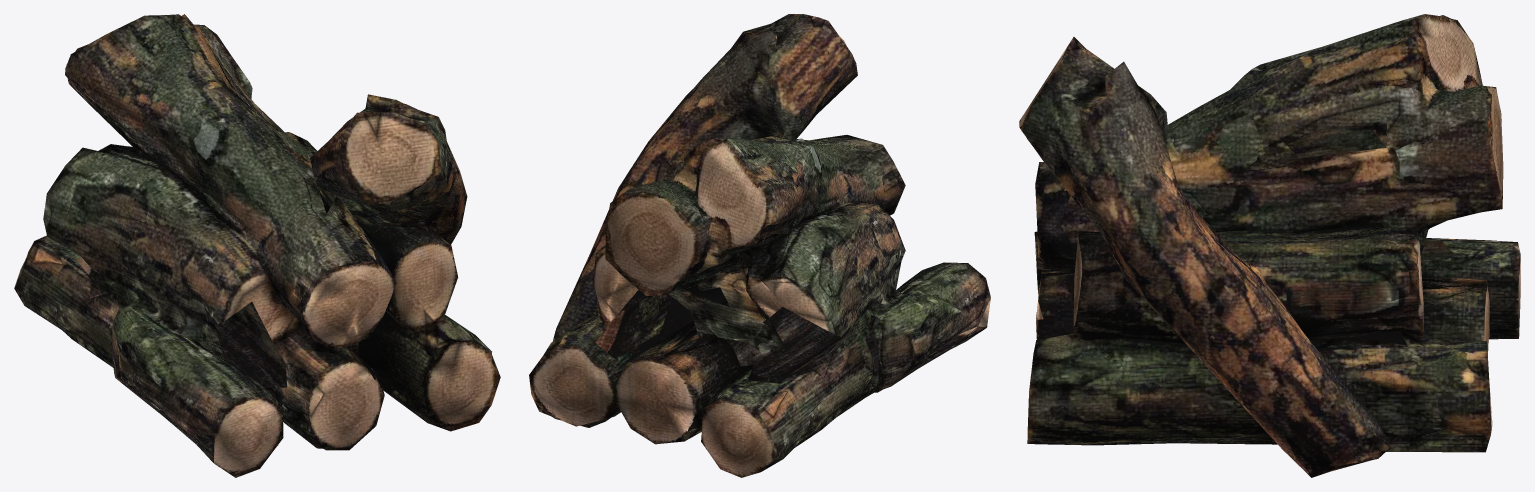
File: CampfireLogs.glb
3 renders of one model, left to right at view 1: azimuth 30°, elevation 25°; view 2: azimuth 150°, elevation 25°; view 3: azimuth 270°, elevation 25°, orthographic. The views are drawn at different scales.
Size of the model in its own units: 0.8529 by 0.7801 by 0.9881.
1 material, 1 textured.
